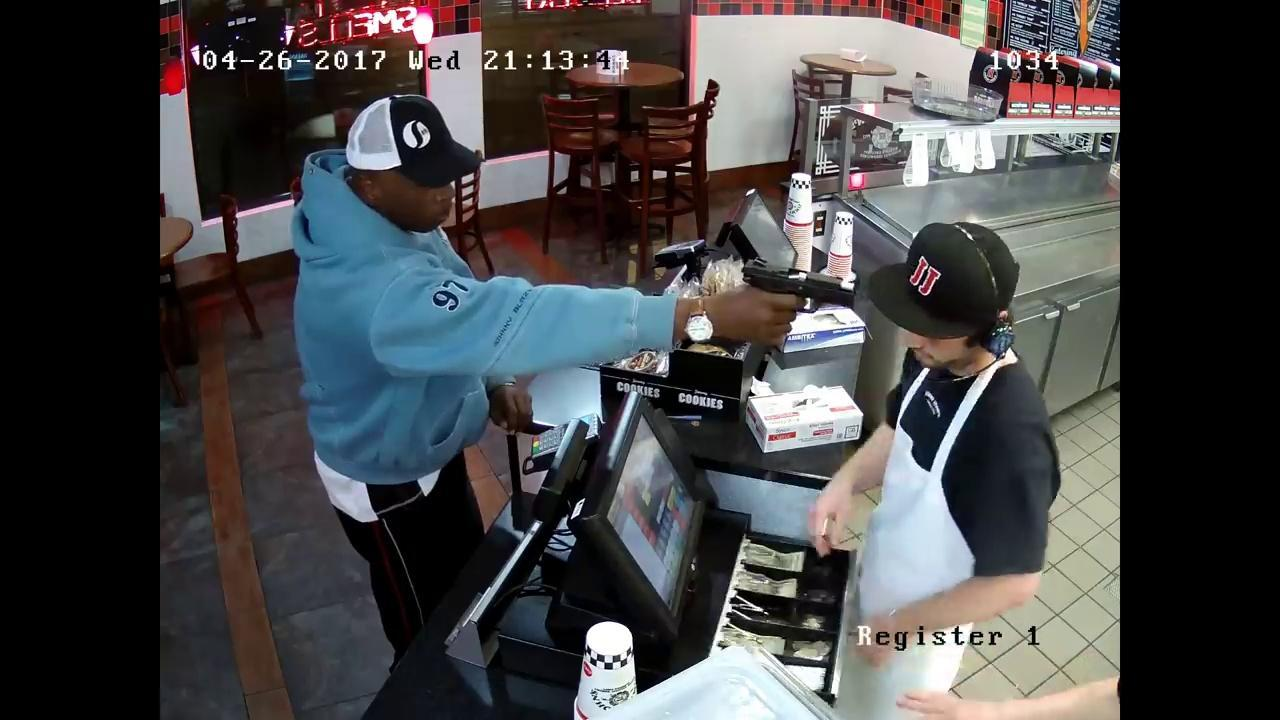Guns: (714, 232, 881, 335)
